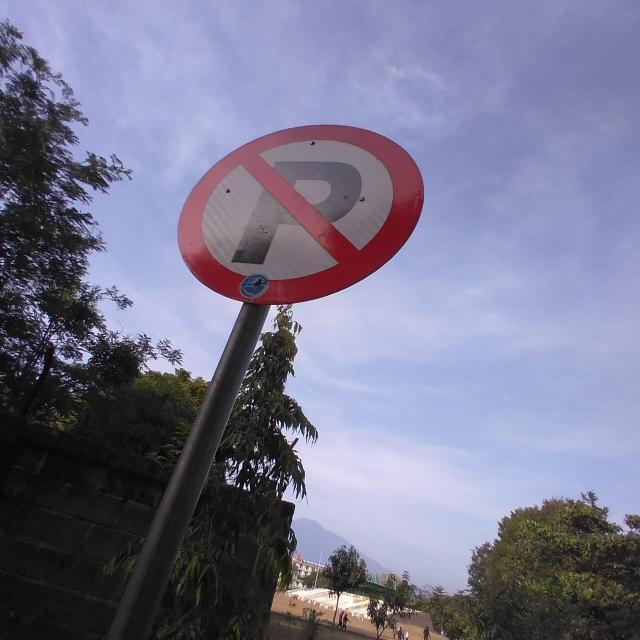traffic sign: (183, 131, 423, 300)
